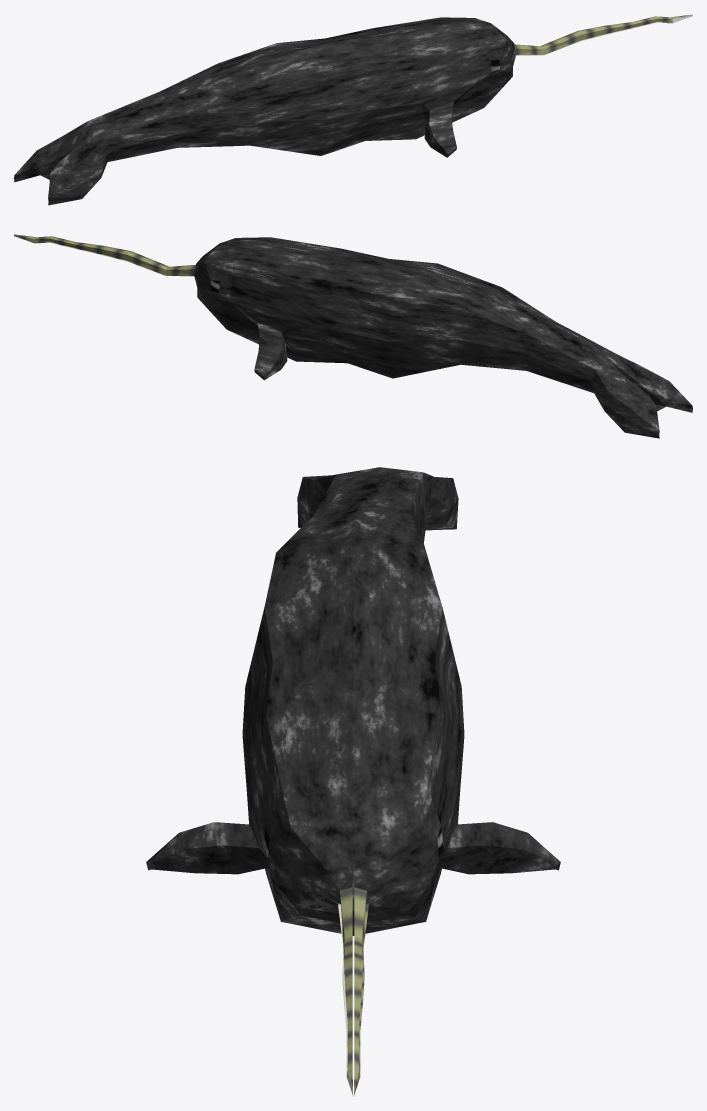
File: Narwhal2.fbx
The picture shows the model from 3 angles, top to bottom: view 1: azimuth 30°, elevation 25°; view 2: azimuth 150°, elevation 25°; view 3: azimuth 270°, elevation 25°; orthographic projection. The views are drawn at different scales.
Visible parts, largest first — view 1: Narwhal2; view 2: Narwhal2; view 3: Narwhal2.
Part boxes in pixels (left/top/right/bottom): Narwhal2: left=14, top=14, right=692, bottom=205; Narwhal2: left=14, top=234, right=692, bottom=438; Narwhal2: left=146, top=467, right=560, bottom=1096.
Bounding box in the file's own units: 4.5 × 0.6869 × 1.23.
1 material, 1 textured.
